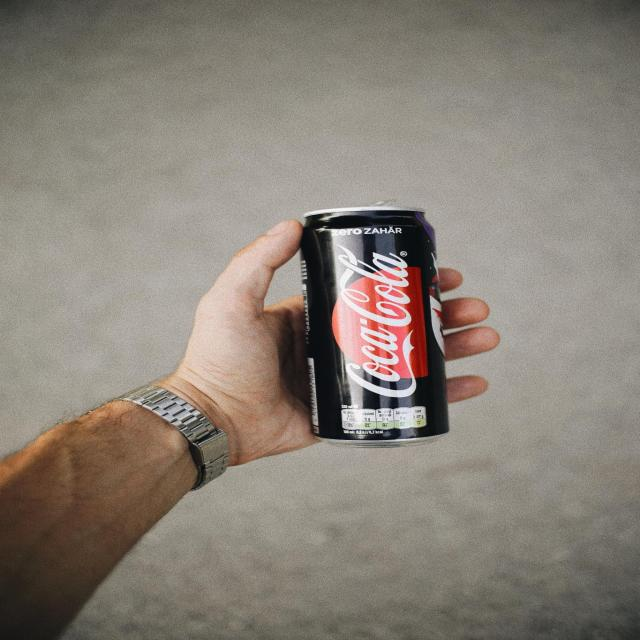coca-cola: (332, 242, 425, 414)
